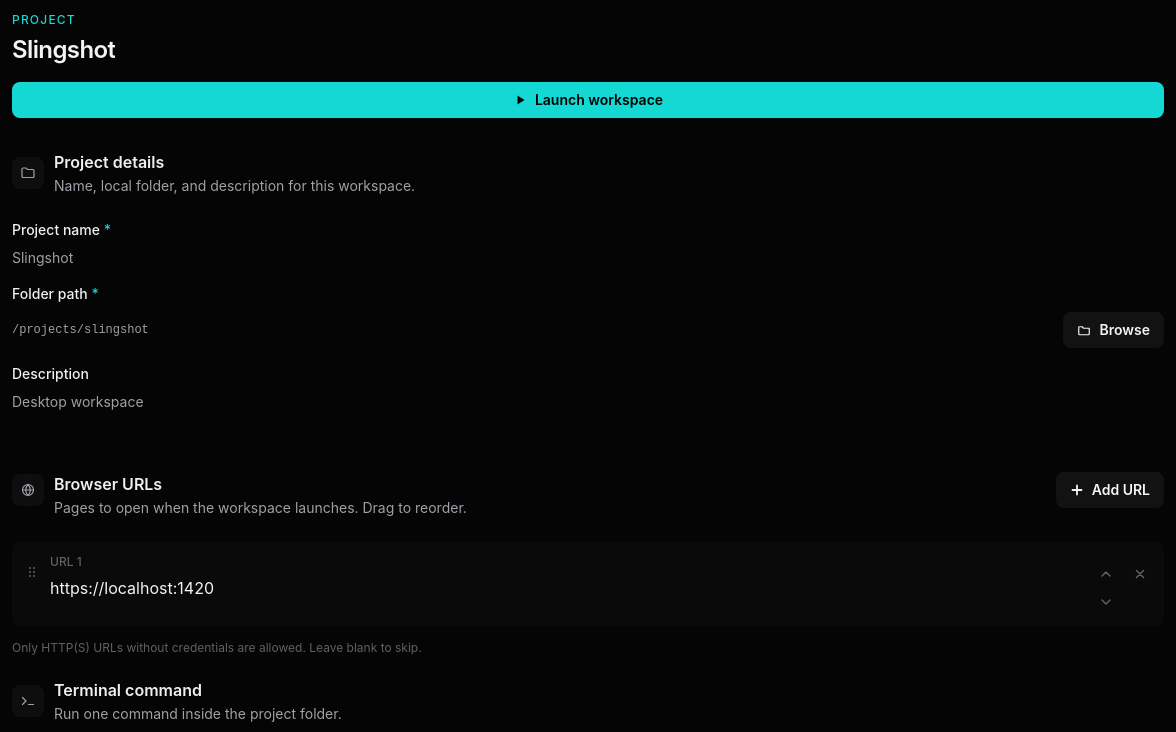
it: ProjectDetailPage › adds a new empty URL input when Add URL is clicked
Click the button "Add URL" at coordinates (1110, 490), box top-left (1056, 472), bottom-right (1164, 508)
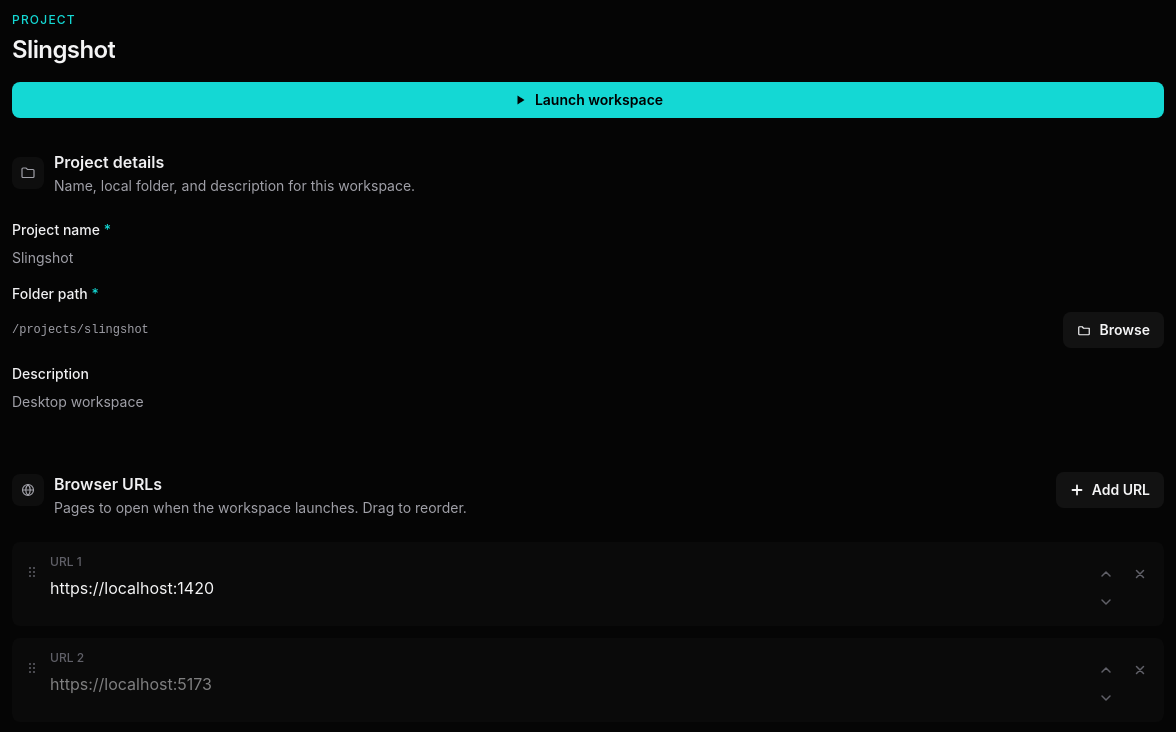
Result: the number of fields labelled "URL 1" is 2 at top-left (50, 576), bottom-right (298, 600); top-left (50, 672), bottom-right (298, 696)
Result: the field labelled "URL 2" is empty at top-left (50, 672), bottom-right (298, 696)
